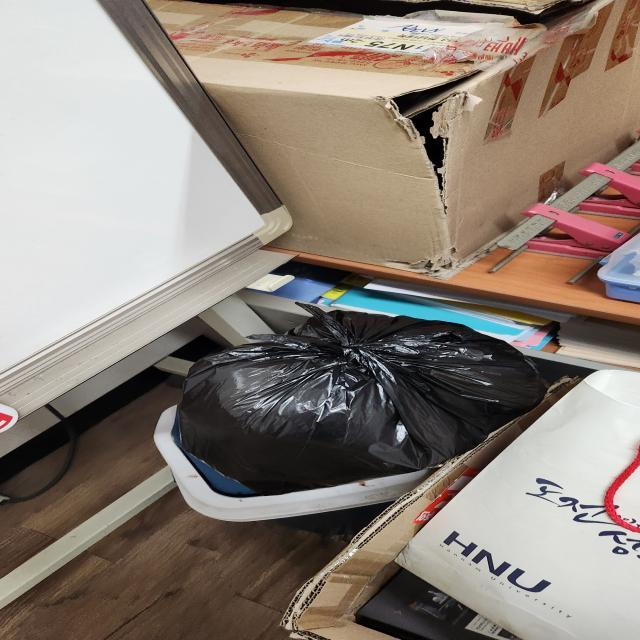black_bag: (174, 303, 550, 487)
